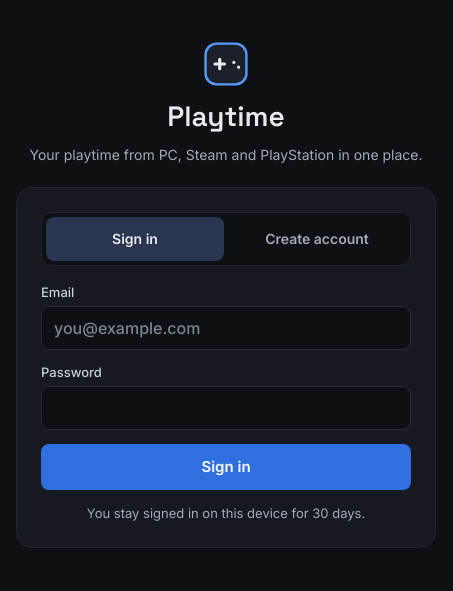
Test case: LoginPage › shows the wrong-credentials message on 401
Step 1. Type "a@b.co" into the field labelled "Email" → (226, 328), box [41,306,411,350]
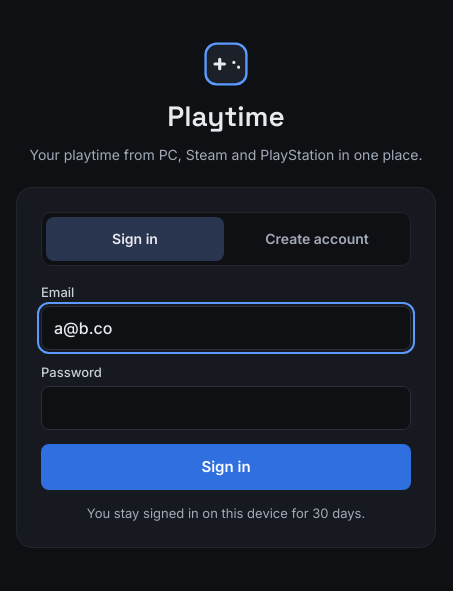
Step 2. Type "wrongwrong" into the password field labelled "Password" → (226, 408), box [41,386,411,430]
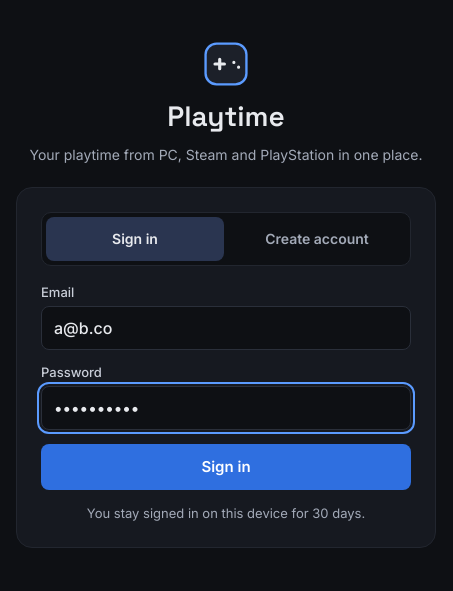
Step 3. Click the button "Sign in" below "Password" → (226, 467), box [41,444,411,490]
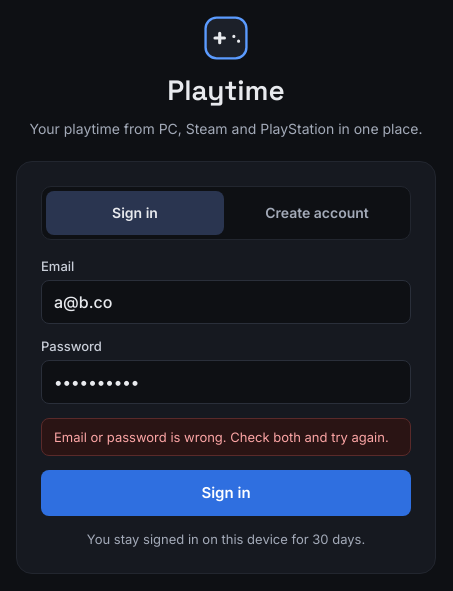
Expected: the message reads "Email or password is wrong. Check both and try again.", [54,429,389,445]
